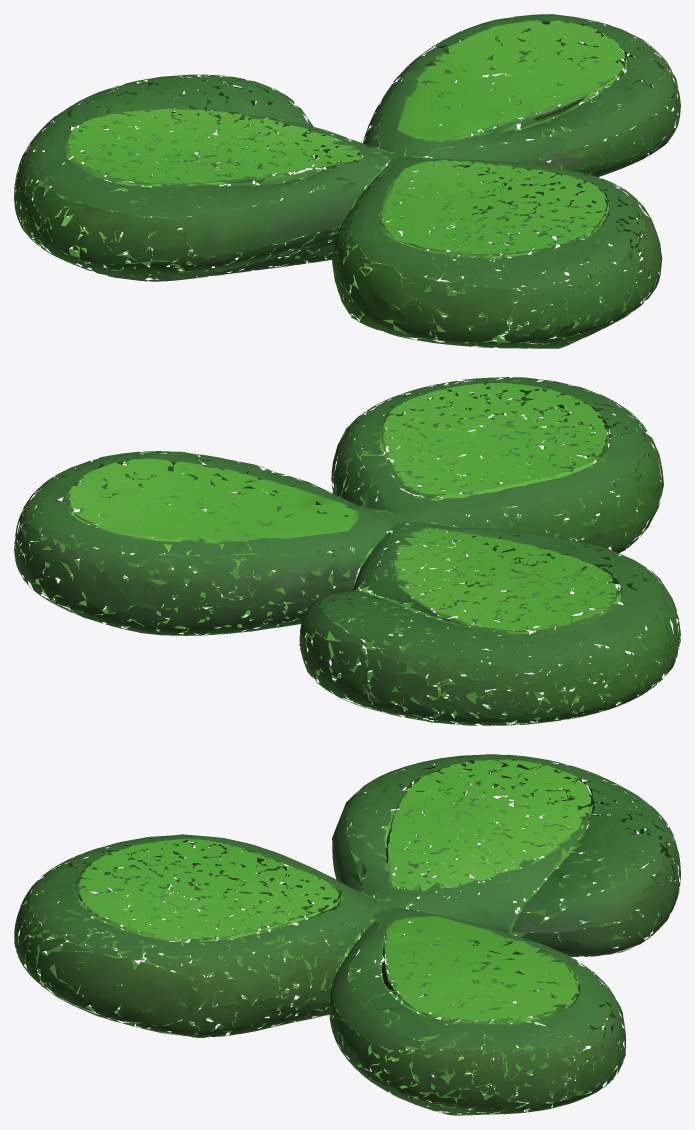
Rendered from clover.glb.
3 views of the same model, one above another, from view 1: azimuth 30°, elevation 25°; view 2: azimuth 150°, elevation 25°; view 3: azimuth 270°, elevation 25° (orthographic).
Bounding box in the file's own units: 0.15 × 0.0265 × 0.1371.
1 material, 1 textured.
